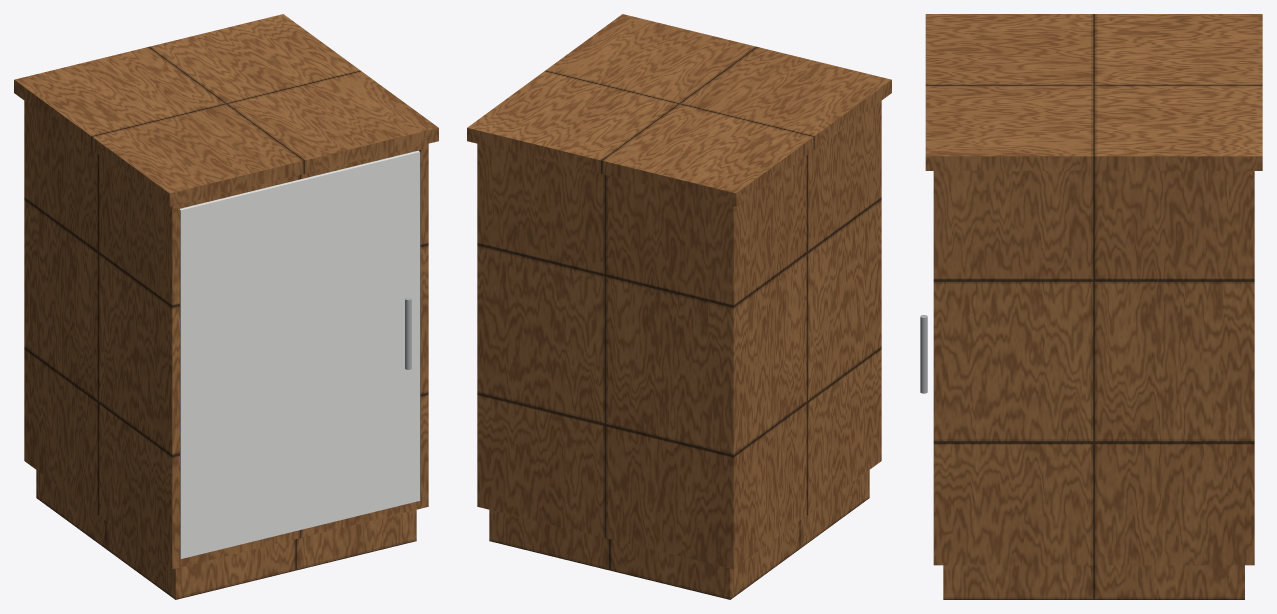
The model's file is Konyhai_alsoelem_60.obj.
3 views of the same model, side by side, from view 1: azimuth 30°, elevation 25°; view 2: azimuth 150°, elevation 25°; view 3: azimuth 270°, elevation 25° (orthographic). The views are drawn at different scales.
Size of the model in its own units: 0.63 by 0.93 by 0.64.
3 materials, 1 textured.
